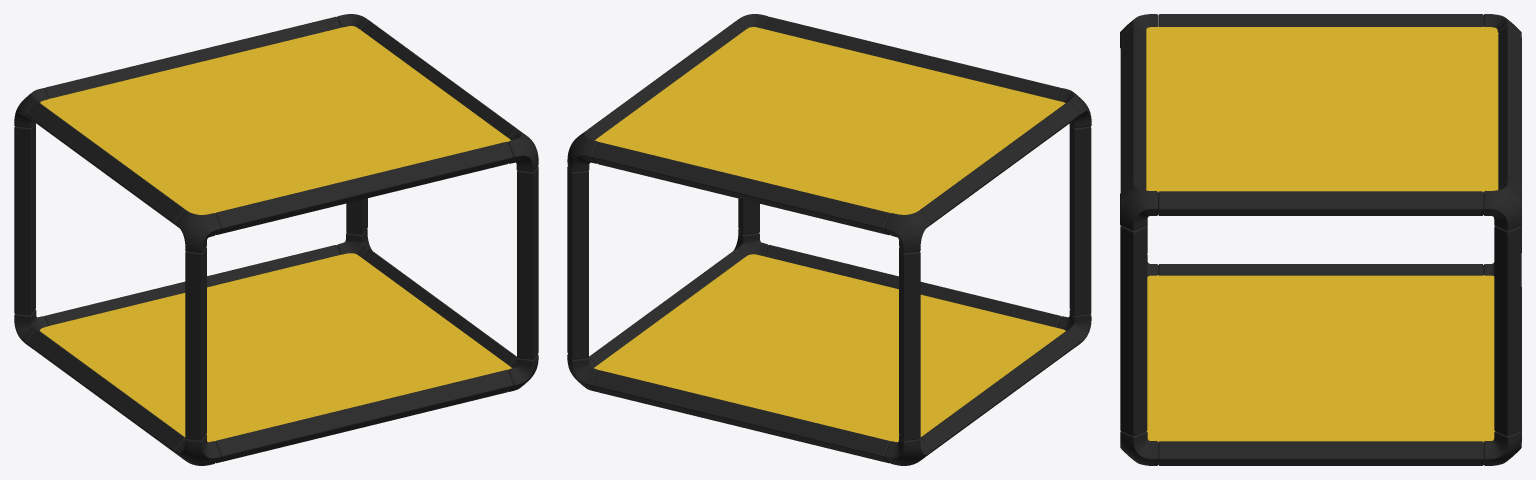
3 views of the same model, side by side, from view 1: azimuth 30°, elevation 25°; view 2: azimuth 150°, elevation 25°; view 3: azimuth 270°, elevation 25° (orthographic). The views are drawn at different scales.
Visible parts, largest first — view 1: 374x329x229; view 2: 374x329x229; view 3: 374x329x229.
Part boxes in pixels (x1=…): 374x329x229: x1=14, y1=14, x2=538, y2=465; 374x329x229: x1=567, y1=14, x2=1091, y2=465; 374x329x229: x1=1120, y1=14, x2=1521, y2=465.
Bounding box in the file's own units: 0.4517 × 0.3066 × 0.4063.
